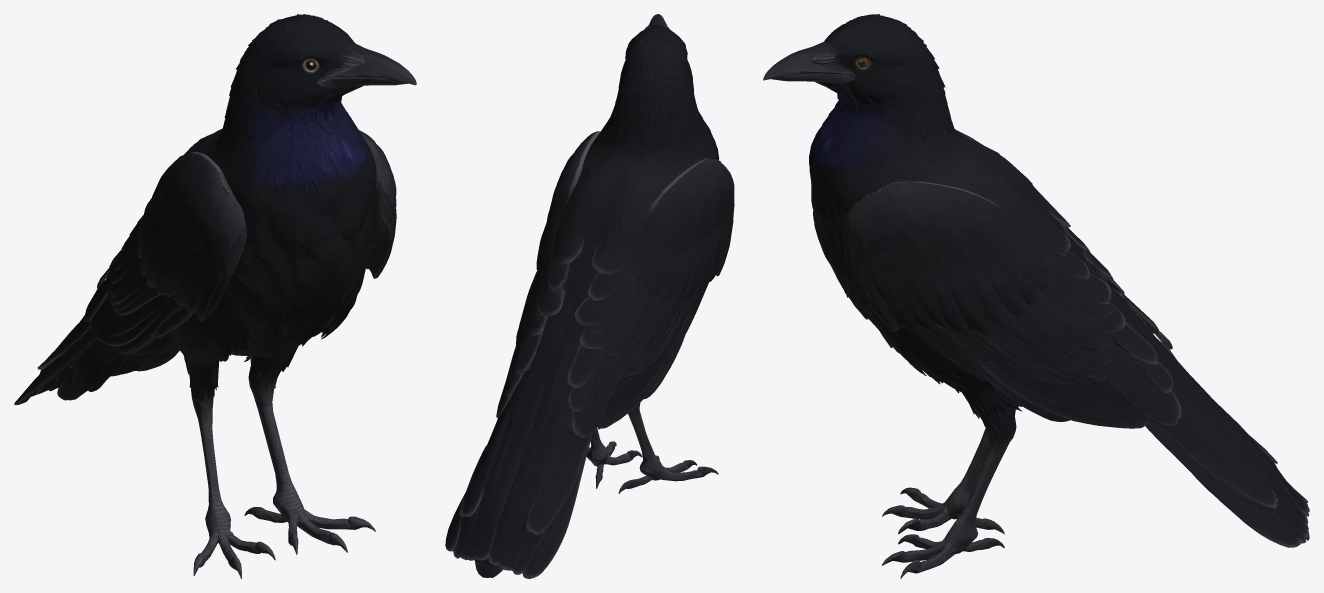
Rendered from common-raven.glb.
3 renders of one model, left to right at view 1: azimuth 30°, elevation 25°; view 2: azimuth 150°, elevation 25°; view 3: azimuth 270°, elevation 25°, orthographic. The views are drawn at different scales.
Size of the model in its own units: 0.7286 by 1.91 by 1.8.
Materials: 1 (1 with a texture image).
